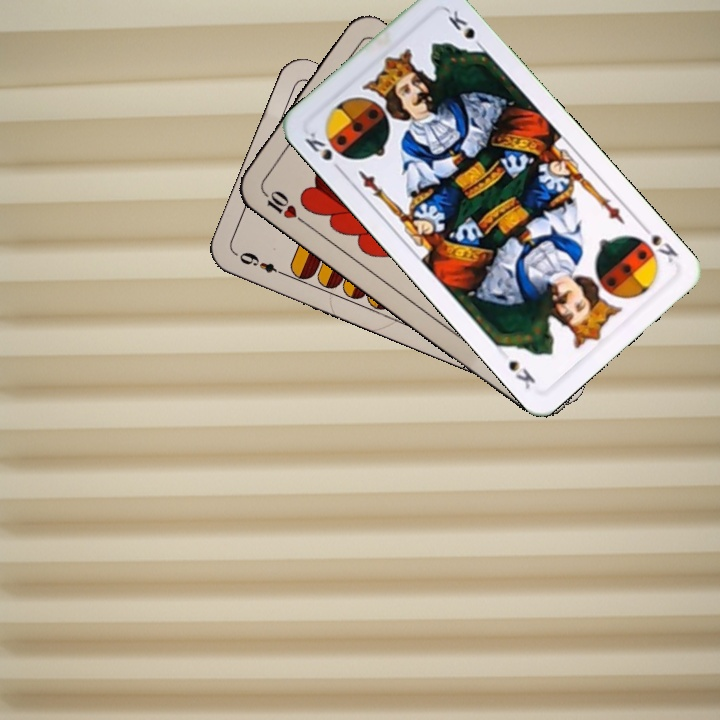E9: (232, 248, 289, 279)
H10: (257, 185, 308, 226)
SK: (630, 219, 681, 266), (300, 127, 346, 176)
